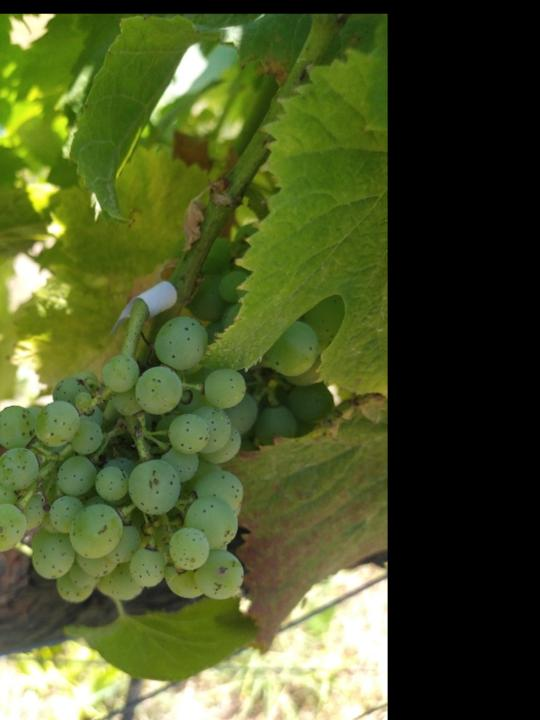grape: (0, 313, 317, 605)
